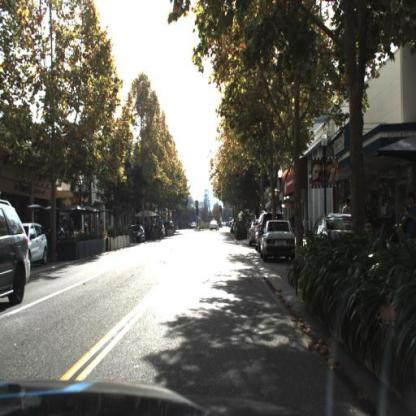biker: (157, 214, 167, 245), (156, 215, 164, 244)
car: (2, 199, 33, 312), (303, 204, 364, 261), (9, 222, 50, 269), (258, 218, 298, 263), (129, 224, 150, 247), (130, 223, 146, 244), (249, 218, 259, 245), (208, 217, 222, 235)
pedestrian: (342, 195, 353, 218)
